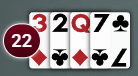2: (50, 12, 70, 34)
3: (29, 12, 49, 34)
7: (91, 11, 111, 36)
q: (70, 12, 91, 36)
